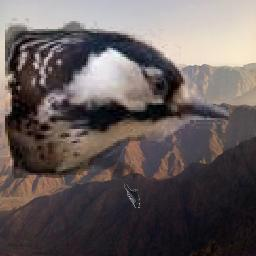Crow: (124, 184, 141, 209)
Woodpecker: (5, 18, 229, 178)
